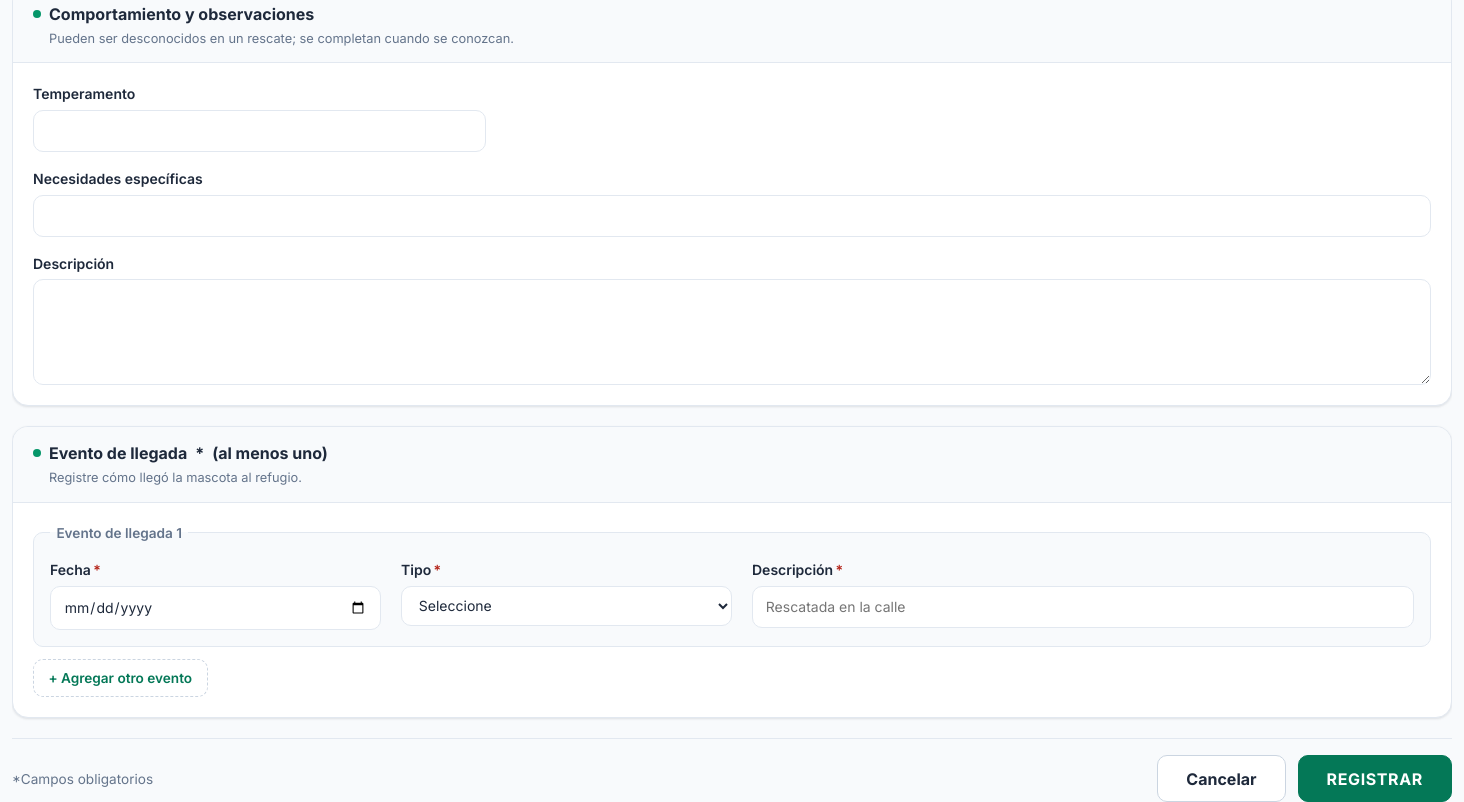
Test case: PetRegisterPage › lets the user add and remove arrival events, keeping at least one
(page scrolled)
Expected: the button "Quitar evento" is not shown
Click the button "+ Agregar otro evento" at (120, 678), box [33,659,208,697]
(page scrolled)
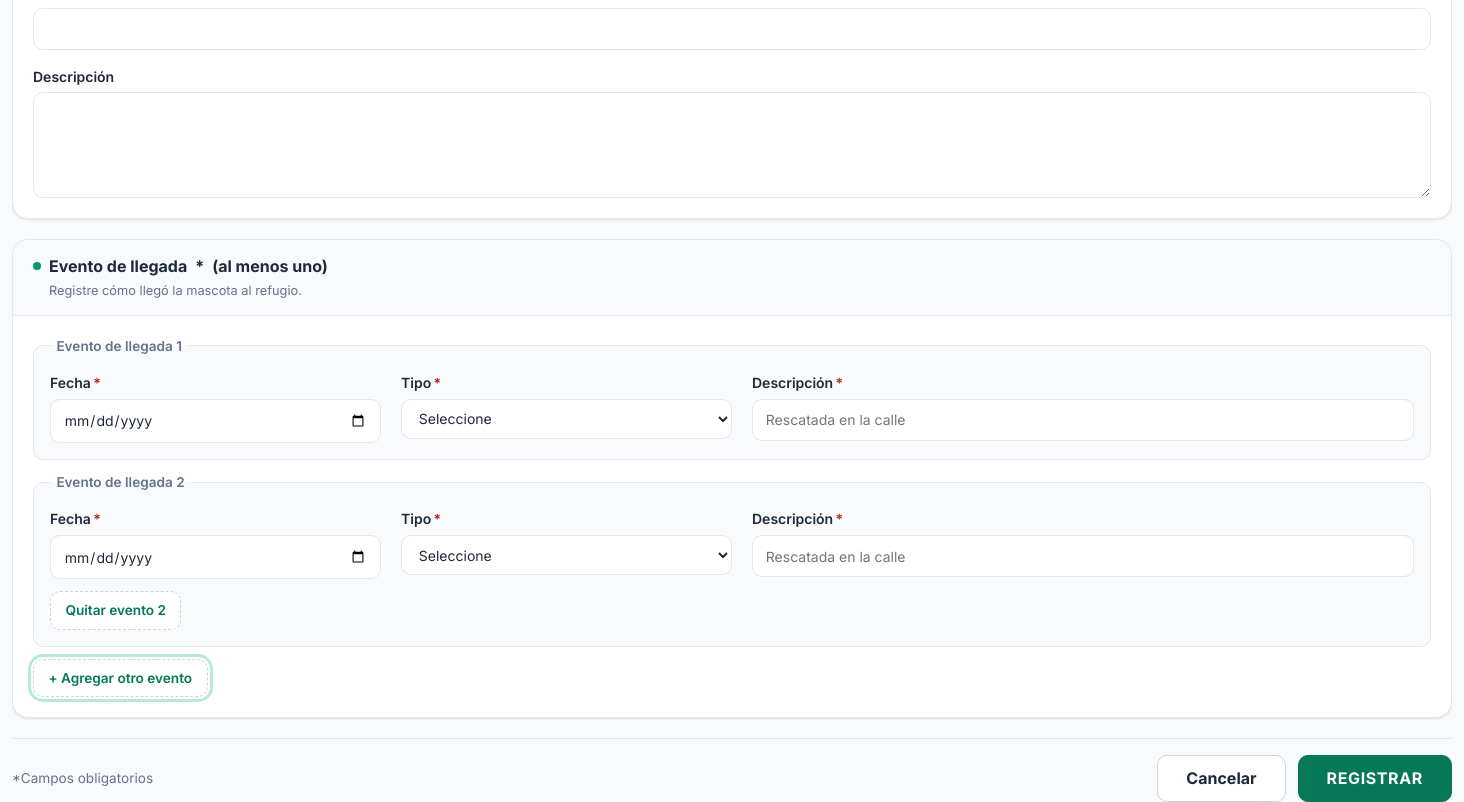
Expected: the element "Evento de llegada 2" is shown, [33,472,1431,647]
Click the button "Quitar evento 2" at (116, 610), box [50,591,181,630]
(page scrolled)
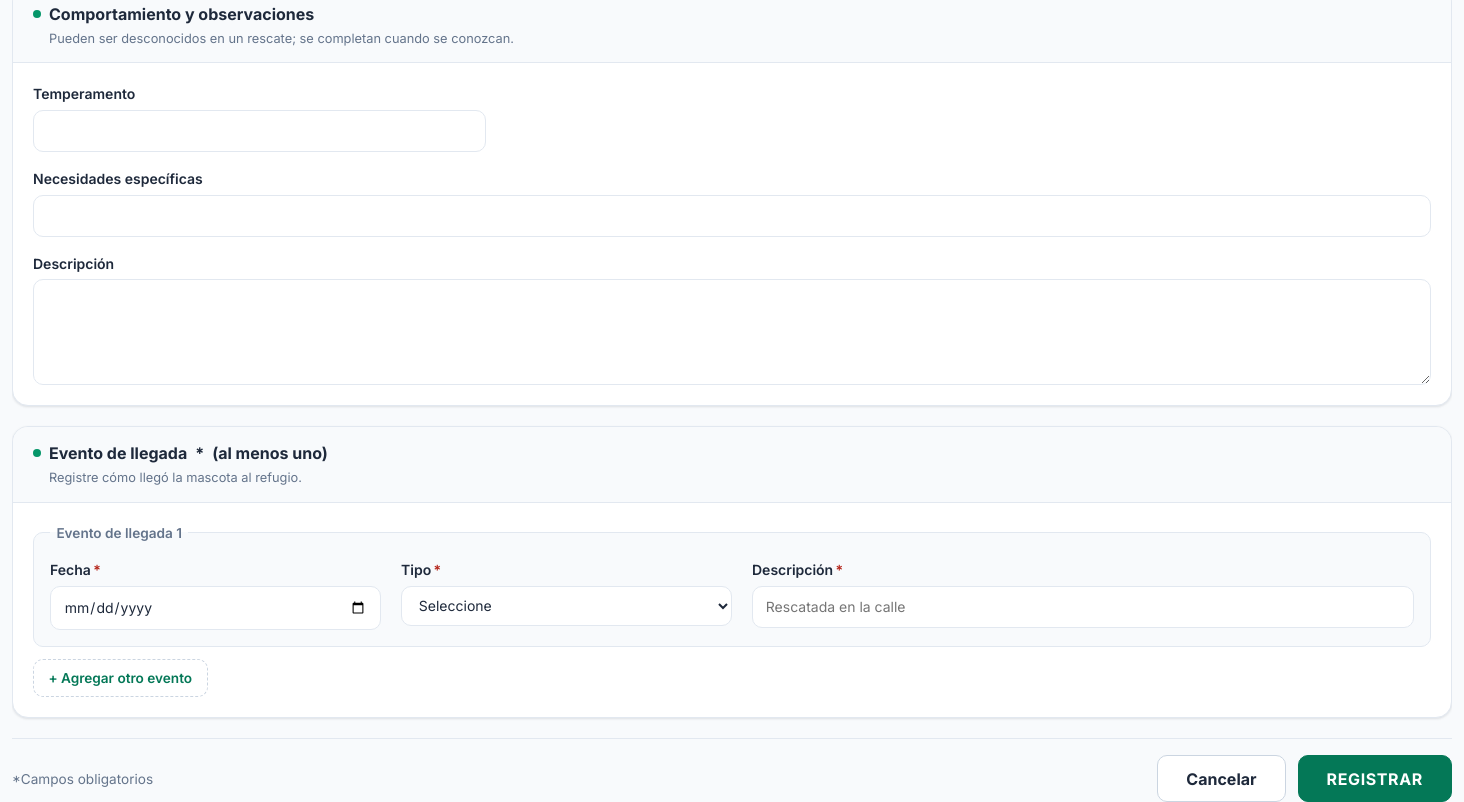
Expected: the element "Evento de llegada 1" is shown, [33,523,1431,647]
Expected: the text "Evento de llegada 2" is gone
